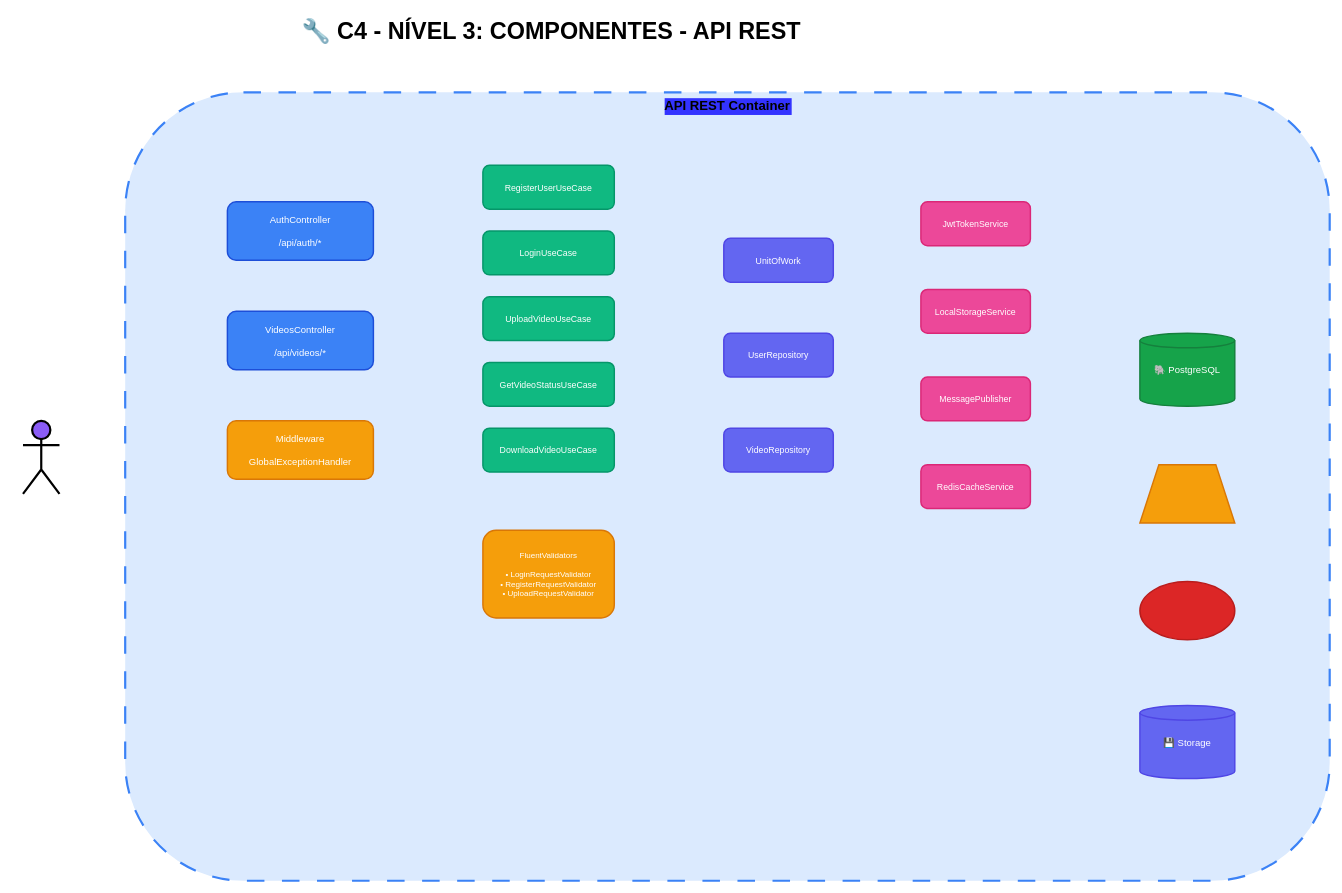
Image size: 1342x893. Some labels were removed from this diagram. Each missing label, with the centre of its shape:
"⚡ Redis" belongs at pixel 1187 610.
"🐰 RabbitMQ" belongs at pixel 1187 493.
"👤 Usuário" belongs at pixel 41 457.
